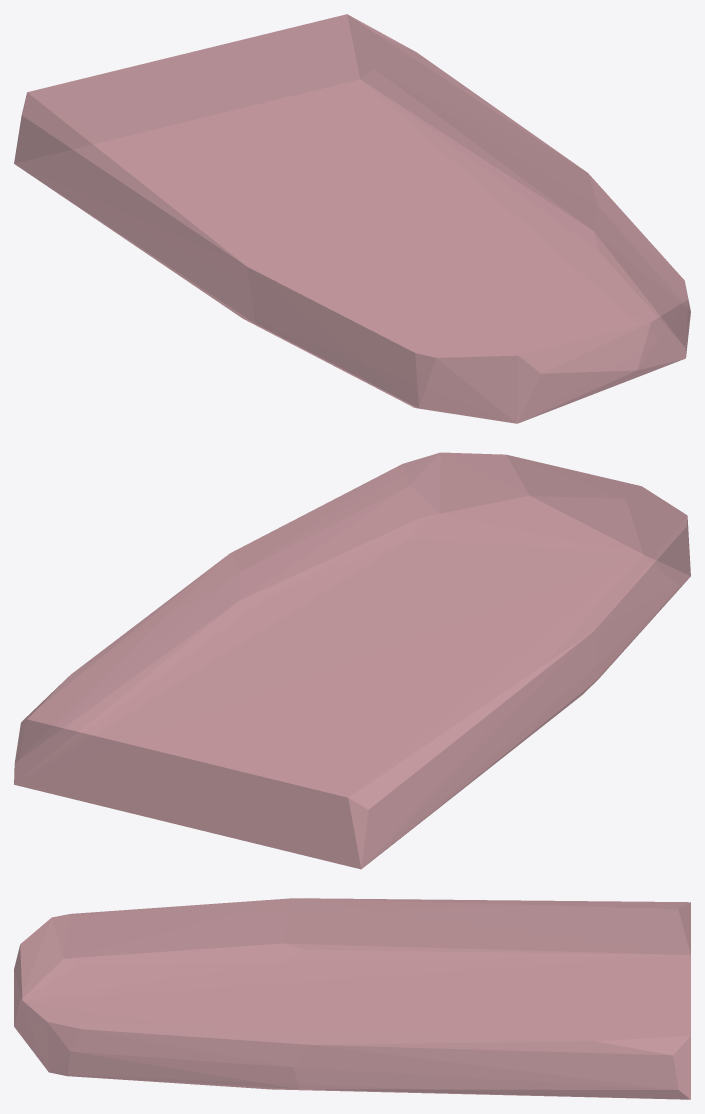
3 renders of one model, top to bottom at view 1: azimuth 30°, elevation 25°; view 2: azimuth 150°, elevation 25°; view 3: azimuth 270°, elevation 25°, orthographic. The views are drawn at different scales.
Visible parts, largest first — view 1: Shape_IndexedFaceSet.004_Shape_IndexedFaceSet.5731; view 2: Shape_IndexedFaceSet.004_Shape_IndexedFaceSet.5731; view 3: Shape_IndexedFaceSet.004_Shape_IndexedFaceSet.5731.
Part boxes in pixels (x1,y1,x2,y2): Shape_IndexedFaceSet.004_Shape_IndexedFaceSet.5731: (14,14,690,423); Shape_IndexedFaceSet.004_Shape_IndexedFaceSet.5731: (14,452,690,869); Shape_IndexedFaceSet.004_Shape_IndexedFaceSet.5731: (14,898,690,1099).
Bounding box in the file's own units: 0.4851 × 0.0898 × 0.9424.
